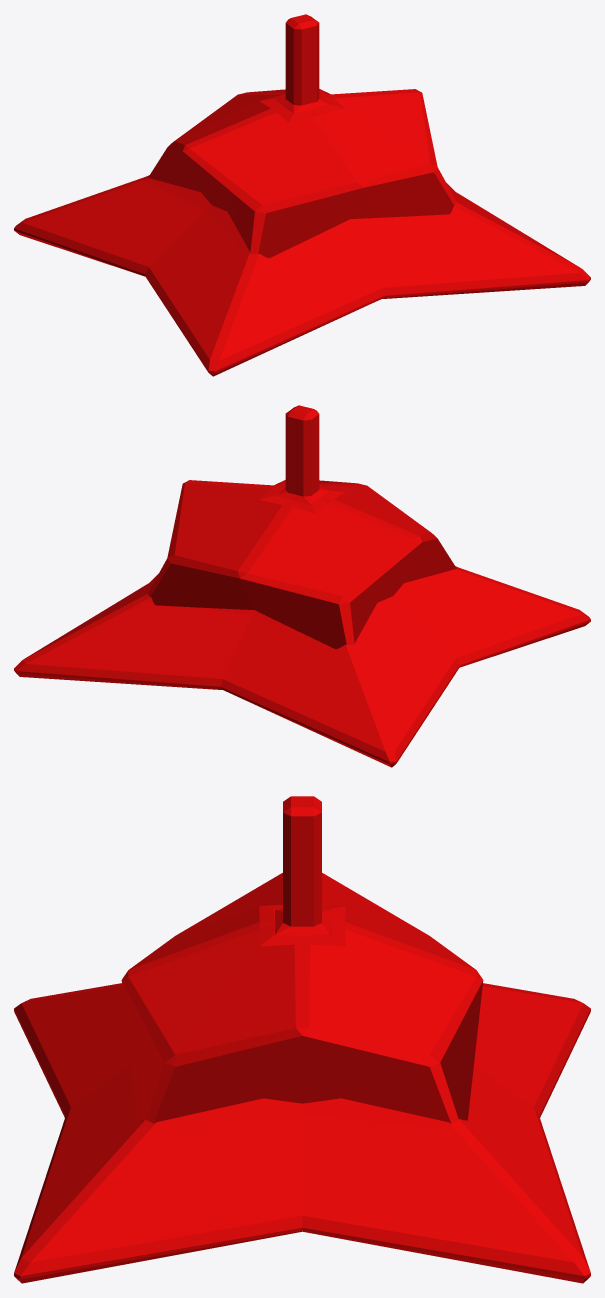
File: bombilla_n2.fbx
3 renders of one model, top to bottom at view 1: azimuth 30°, elevation 25°; view 2: azimuth 150°, elevation 25°; view 3: azimuth 270°, elevation 25°, orthographic. The views are drawn at different scales.
Parts seen in each view (by area): view 1: luzes; view 2: luzes; view 3: luzes.
Boxes of the visible parts, bbox=[...] form: luzes: bbox=[14, 14, 590, 376]; luzes: bbox=[14, 405, 590, 767]; luzes: bbox=[14, 796, 590, 1283].
Bounding box in the file's own units: 94.62 × 57.83 × 85.26.
